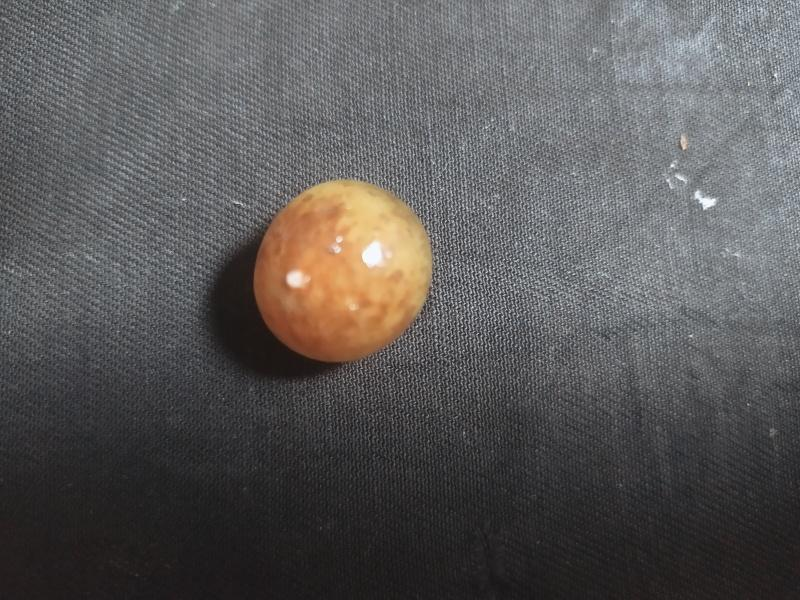Grape Rotten: (252, 178, 433, 364)
